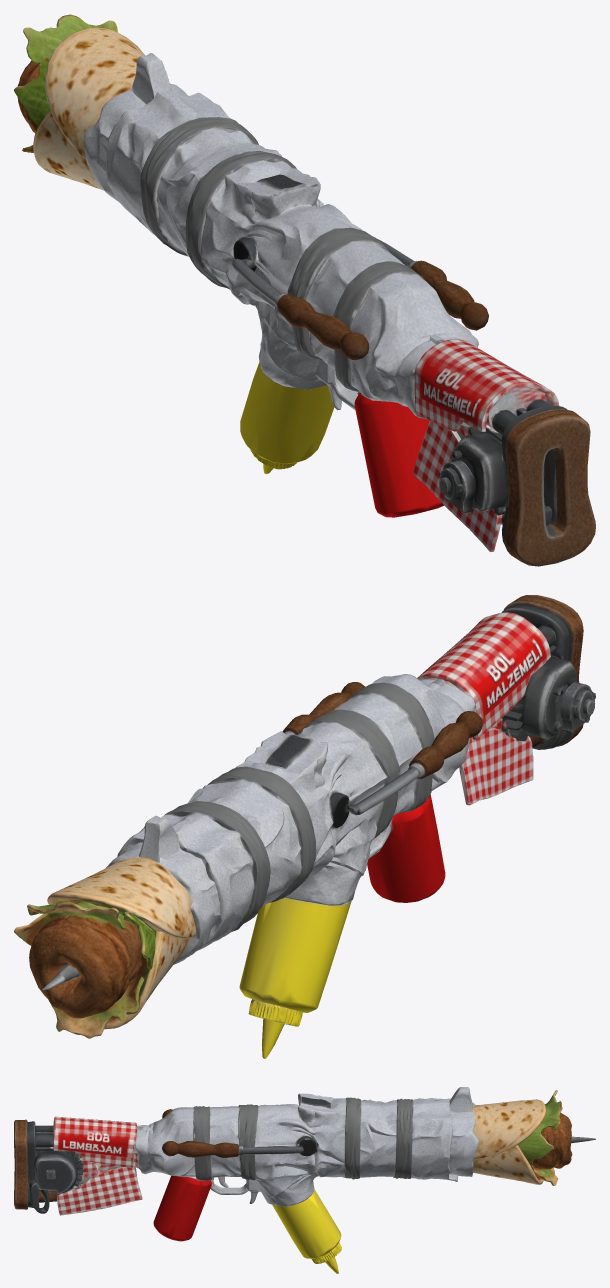
The model's file is akm_durum.glb.
3 renders of one model, top to bottom at view 1: azimuth 30°, elevation 25°; view 2: azimuth 150°, elevation 25°; view 3: azimuth 270°, elevation 25°, orthographic. The views are drawn at different scales.
Visible parts, largest first — view 1: govde, sarjor; view 2: govde, sarjor; view 3: govde, sarjor.
Boxes of the visible parts, x1=… form: govde: x1=14, y1=14, x2=595, y2=566; sarjor: x1=240, y1=362, x2=334, y2=473; govde: x1=14, y1=595, x2=595, y2=1058; sarjor: x1=239, y1=897, x2=351, y2=1057; govde: x1=14, y1=1087, x2=595, y2=1273; sarjor: x1=272, y1=1189, x2=341, y2=1273.
Bounding box in the file's own units: 0.1673 × 0.3401 × 0.9694.
Materials: 1 (1 with a texture image).
